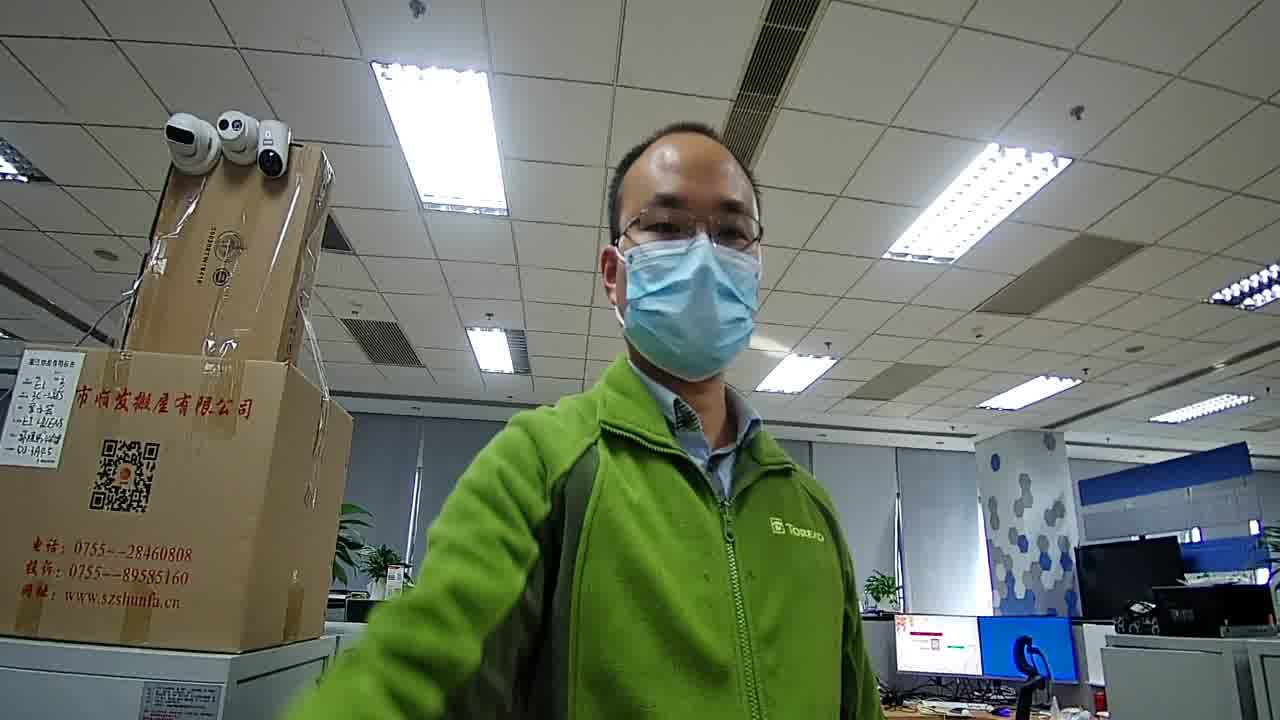face: (618, 149, 760, 380)
mask: (623, 237, 757, 385)
person: (434, 113, 844, 536)
